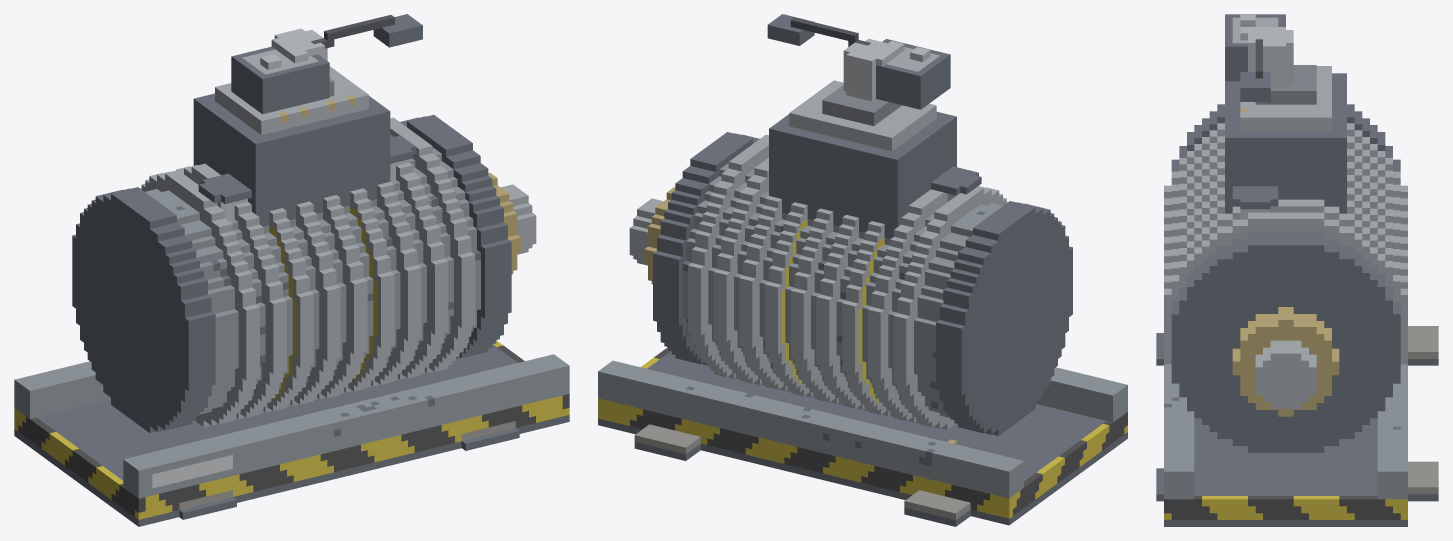
File: motor.glb
The picture shows the model from 3 angles, left to right: view 1: azimuth 30°, elevation 25°; view 2: azimuth 150°, elevation 25°; view 3: azimuth 270°, elevation 25°; orthographic projection. The views are drawn at different scales.
Parts seen in each view (by area): view 1: motor; view 2: motor; view 3: motor.
Part boxes in pixels (box(x1,y1,x2,y2)): motor: box(14, 14, 569, 526); motor: box(598, 14, 1127, 526); motor: box(1156, 14, 1438, 526).
Bounding box in the file's own units: 2.06 × 1.78 × 1.16.
